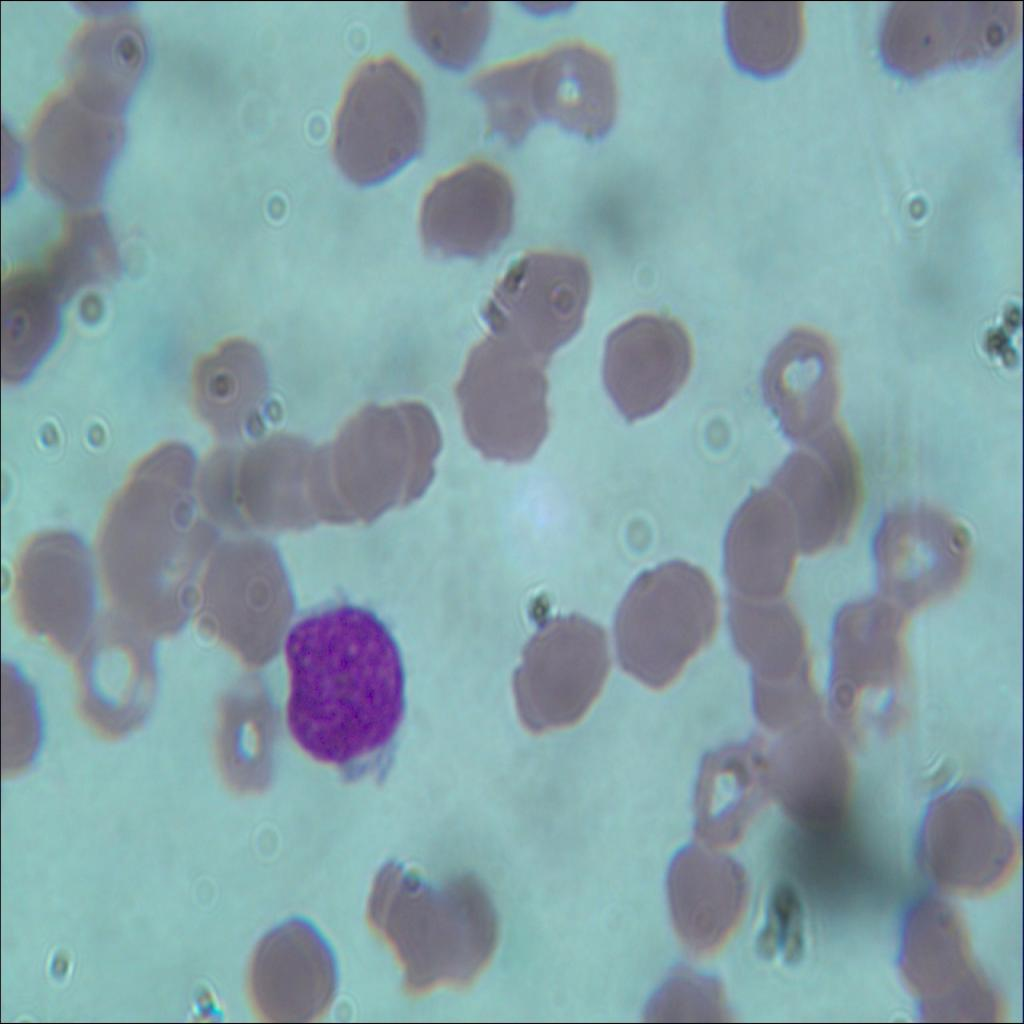Eritrosit: (378, 848, 496, 992), (614, 554, 718, 694), (909, 776, 1023, 902), (95, 474, 188, 628), (326, 54, 426, 191), (508, 605, 606, 744), (458, 338, 558, 474), (201, 524, 293, 660), (26, 89, 130, 208), (69, 619, 163, 740), (600, 307, 690, 432), (326, 394, 408, 530), (142, 439, 228, 562), (659, 841, 744, 961), (884, 897, 978, 1005), (246, 920, 343, 1023), (830, 600, 908, 728), (758, 324, 842, 442), (874, 497, 966, 604), (775, 714, 858, 832), (421, 158, 515, 260), (210, 664, 282, 797), (41, 205, 124, 318), (495, 244, 588, 344), (15, 534, 94, 651), (776, 434, 854, 552), (241, 428, 326, 535), (60, 22, 154, 116), (0, 272, 69, 397), (538, 44, 624, 142), (689, 727, 759, 845), (726, 488, 798, 600), (193, 332, 271, 435), (724, 589, 806, 680), (380, 394, 442, 508), (721, 0, 806, 82), (740, 644, 822, 728)
Limfoblast: (280, 610, 406, 770)
